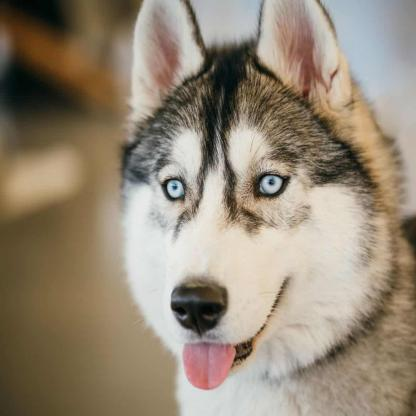husky: (115, 2, 416, 415)
